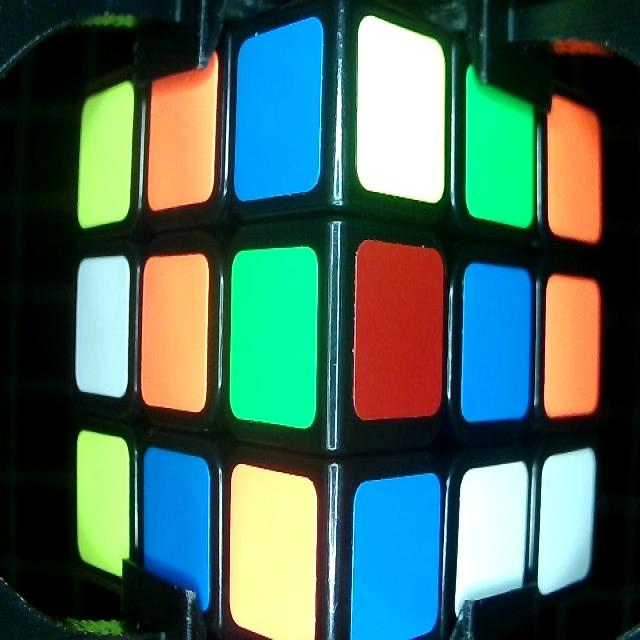b: (235, 17, 322, 196), (352, 470, 440, 640), (145, 446, 211, 610), (463, 264, 532, 420)
g: (232, 244, 317, 432), (469, 66, 535, 228)
o: (229, 464, 316, 636), (149, 48, 216, 204), (142, 253, 207, 409), (545, 72, 603, 246), (546, 274, 598, 414)
r: (352, 244, 444, 421)
w: (356, 15, 442, 196), (458, 461, 528, 621), (544, 451, 594, 590), (79, 255, 128, 394)
y: (78, 80, 134, 230), (76, 430, 130, 576)
